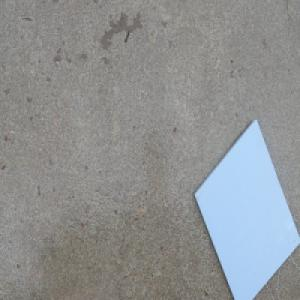PaintChip: (193, 116, 300, 300)
